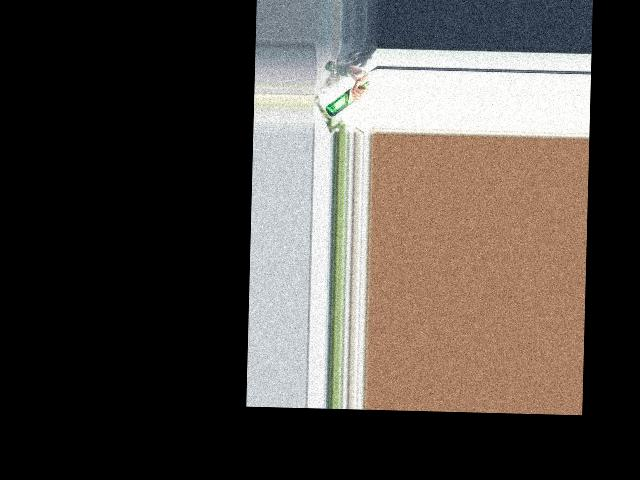beer: (325, 79, 369, 116)
